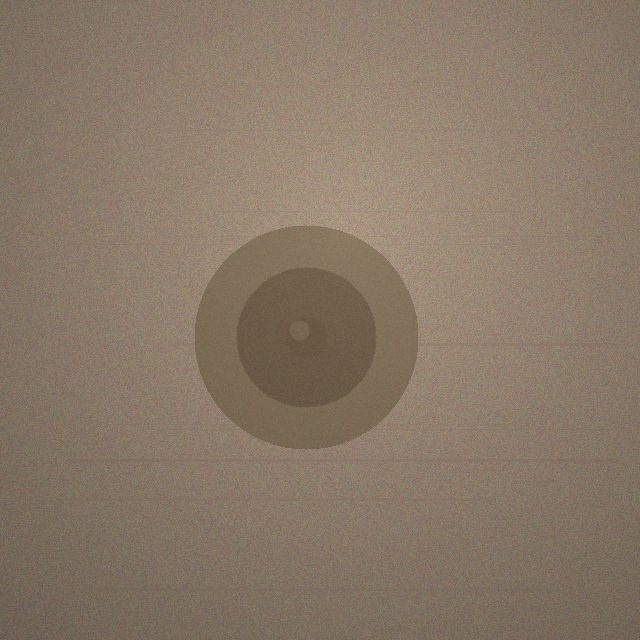good: (194, 225, 418, 449)
